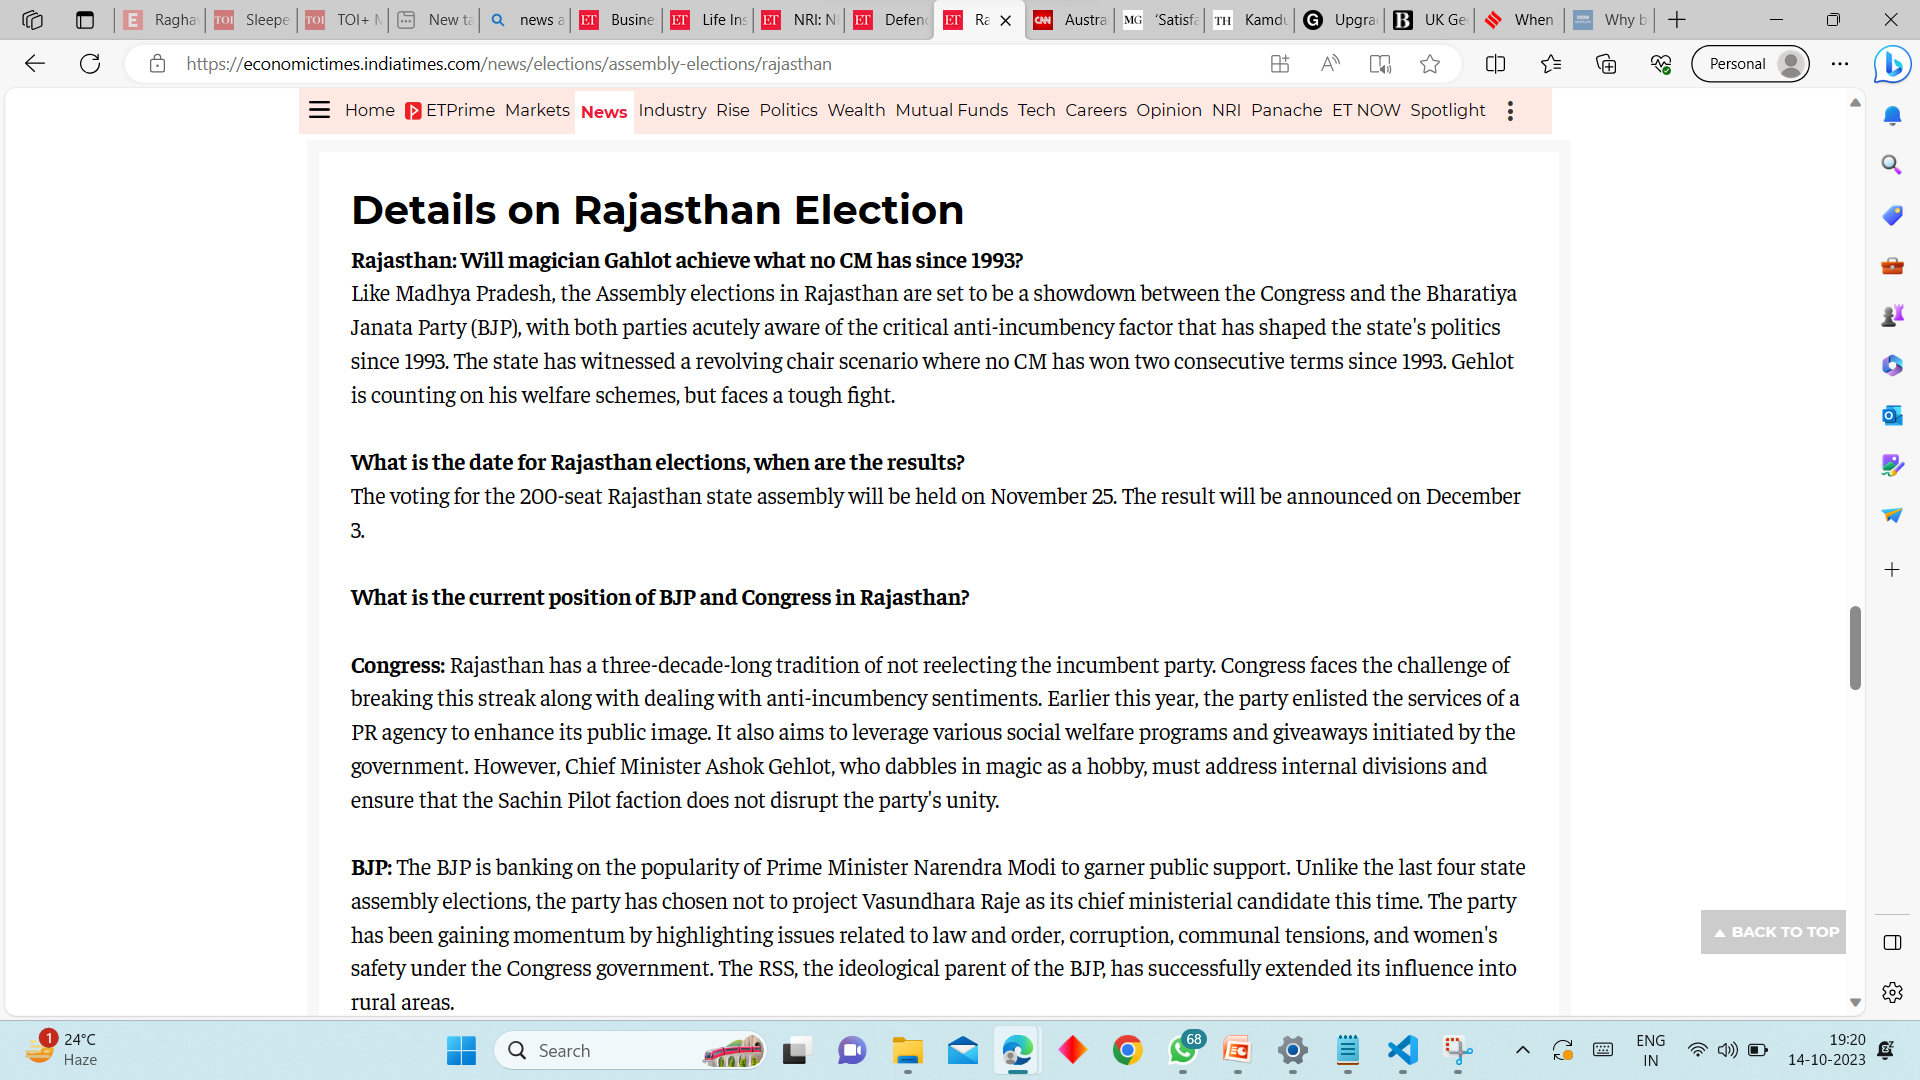Paragraph: (338, 644, 1527, 810), (347, 852, 1536, 1013), (349, 284, 1539, 405), (353, 479, 1516, 543), (356, 165, 997, 228), (351, 579, 997, 615), (347, 235, 1044, 266), (356, 443, 971, 476)
